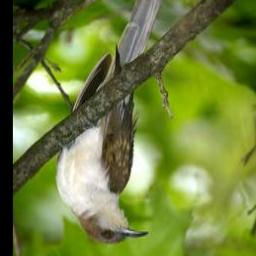Cuckoo: (53, 0, 169, 246)
